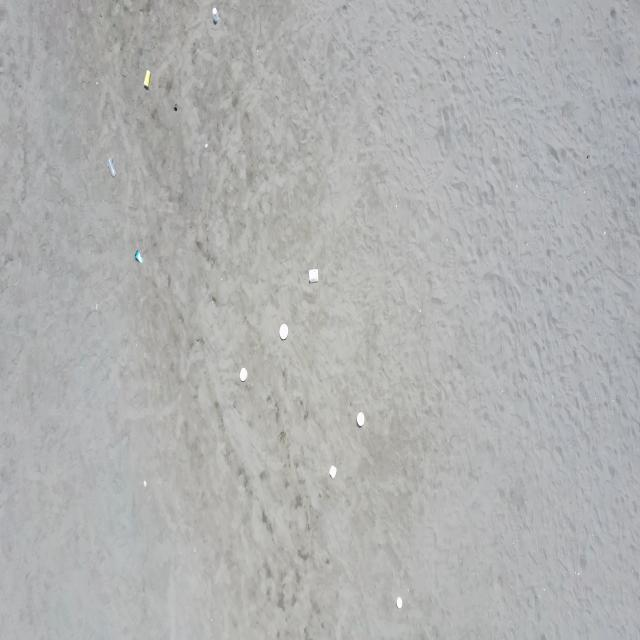take-away-containers: (356, 411, 366, 427), (308, 268, 318, 283), (239, 367, 248, 383), (279, 324, 288, 339), (329, 465, 337, 479), (396, 596, 402, 608)
takeaway-cup: (107, 156, 116, 176), (134, 250, 144, 264), (144, 69, 150, 89), (212, 6, 218, 23)
